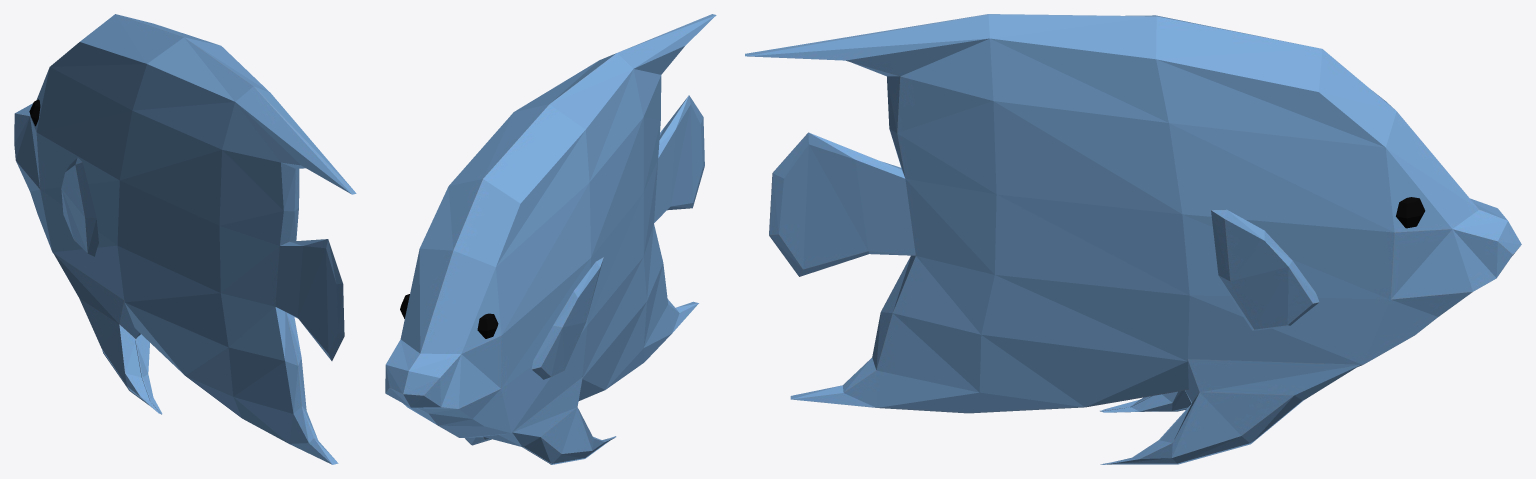
File: angelfish.gltf
3 renders of one model, left to right at view 1: azimuth 30°, elevation 25°; view 2: azimuth 150°, elevation 25°; view 3: azimuth 270°, elevation 25°, orthographic. The views are drawn at different scales.
Parts seen in each view (by area): view 1: fish.1; view 2: fish.1; view 3: fish.1.
Boxes of the visible parts, <box> form: fish.1: <box>14,14,356,464</box>; fish.1: <box>385,14,716,464</box>; fish.1: <box>745,14,1521,464</box>.
Bounding box in the file's own units: 97.79 × 204 × 338.
1 material, 1 textured.
